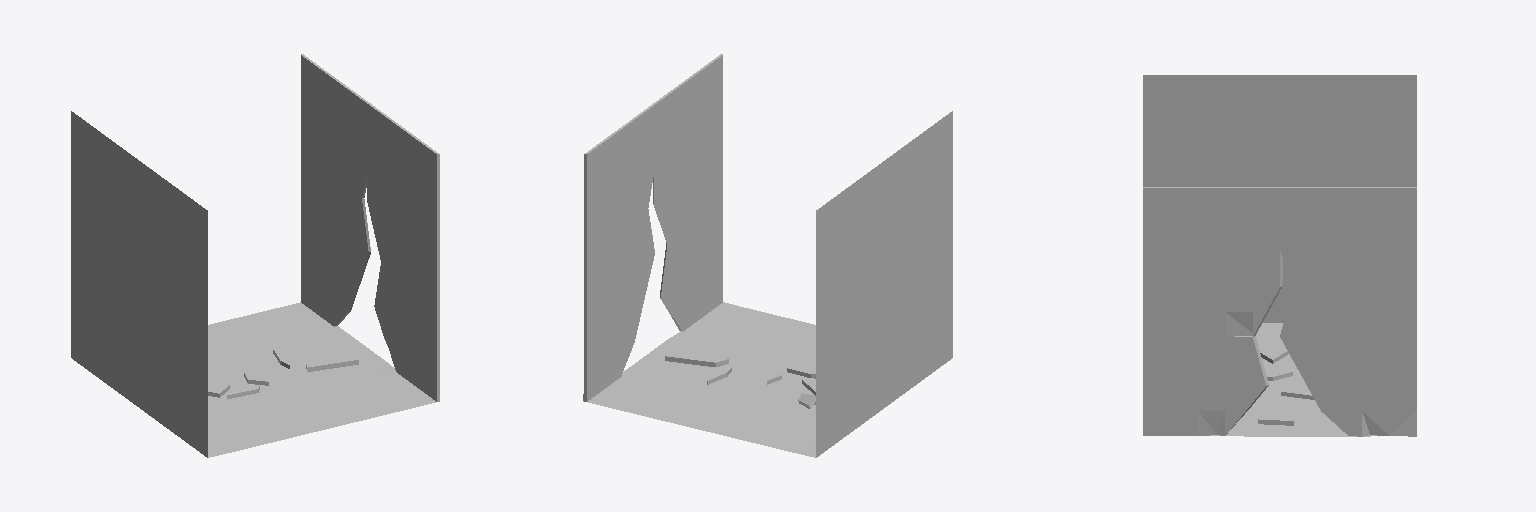
Rendered from 01_Wall_Crack.obj.
The picture shows the model from 3 angles: view 1: azimuth 30°, elevation 25°; view 2: azimuth 150°, elevation 25°; view 3: azimuth 270°, elevation 25°; orthographic projection.
Parts seen in each view (by area): view 1: polySurface4; view 2: polySurface4; view 3: polySurface4.
Part boxes in pixels (x1,y1,x2,y2): polySurface4: (71, 54, 439, 457); polySurface4: (583, 54, 952, 457); polySurface4: (1143, 75, 1416, 436).
Size of the model in its own units: 78.89 by 80.07 by 80.